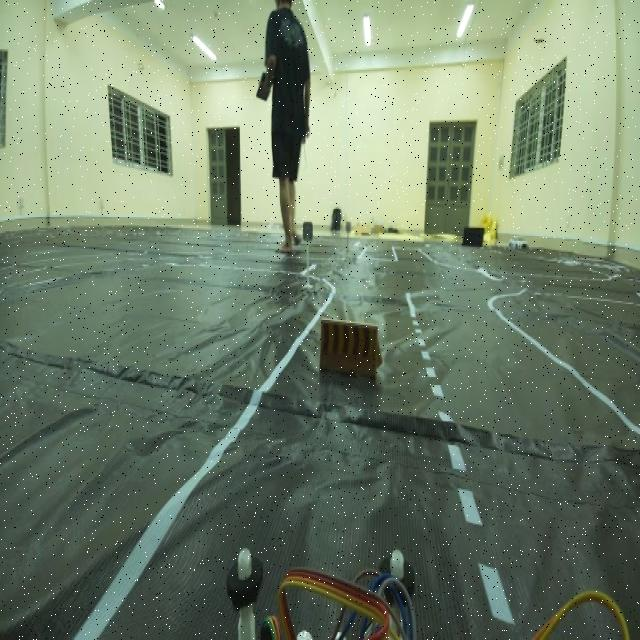roadblock: (313, 304, 395, 406)
